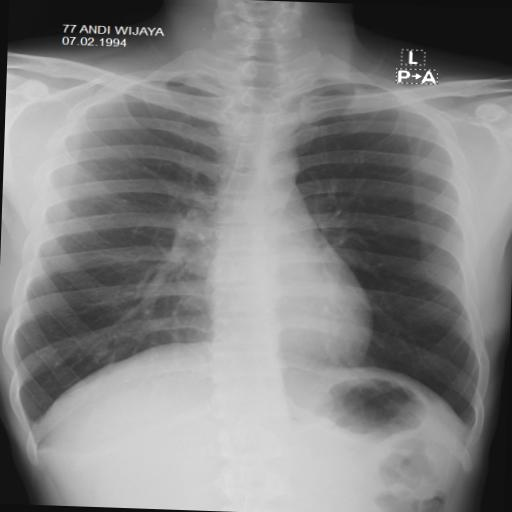normal: (13, 38, 494, 449)
